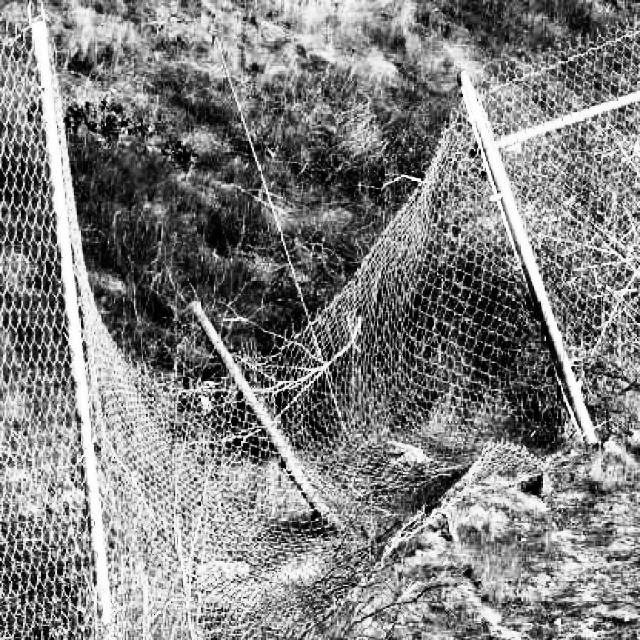anomaly-fence: (26, 16, 626, 611)
